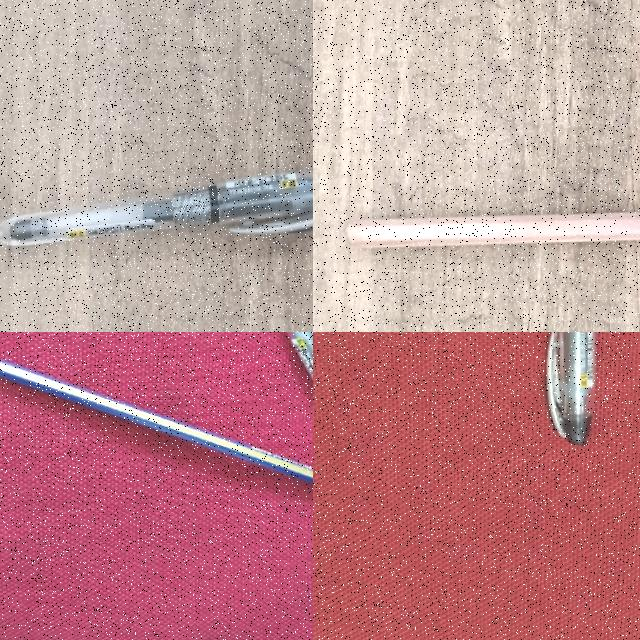pen: (0, 171, 312, 246), (271, 332, 313, 516), (547, 332, 596, 444)
pencil: (0, 361, 313, 484), (347, 213, 639, 248)
